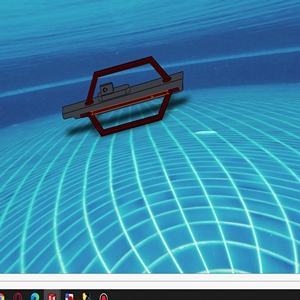submarine: (61, 55, 186, 130)
